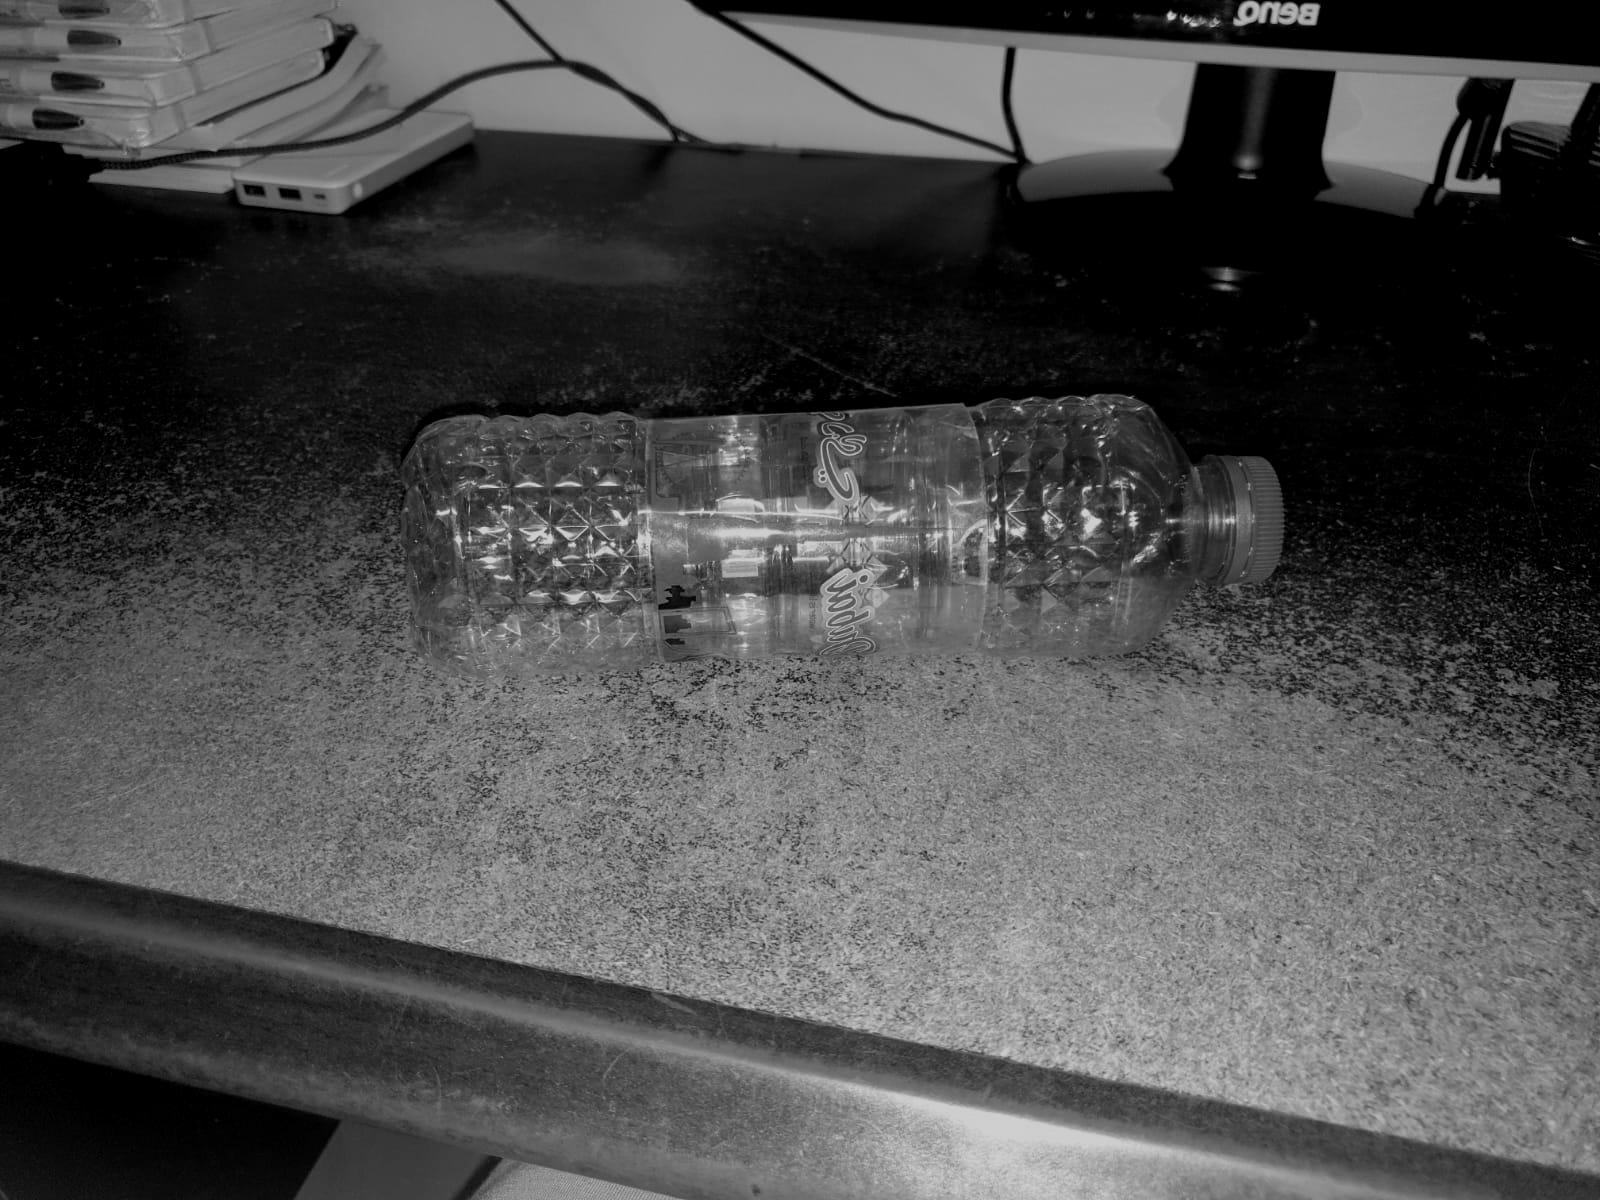bottle: (404, 384, 1293, 679)
